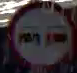No overtake: (7, 0, 72, 69)
